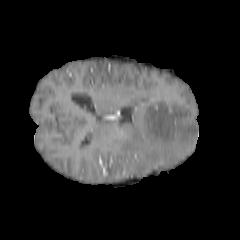glioma: (119, 105, 197, 174)
